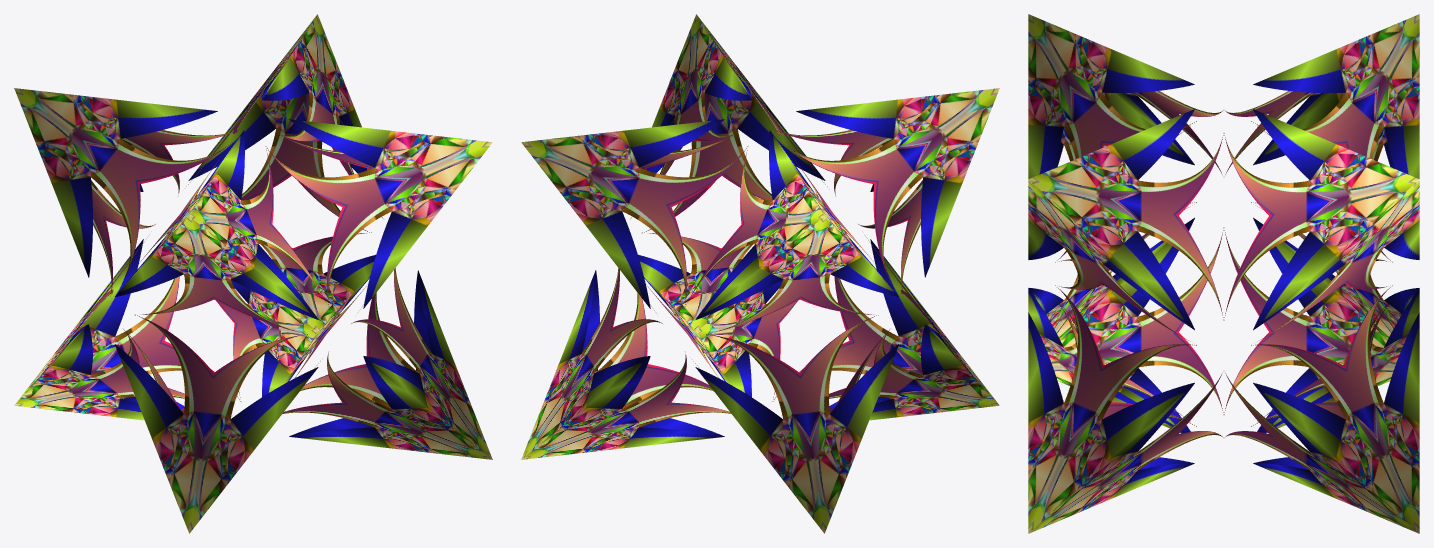
Rendered from 1StellaOctangula.gltf.
3 renders of one model, left to right at view 1: azimuth 30°, elevation 25°; view 2: azimuth 150°, elevation 25°; view 3: azimuth 270°, elevation 25°, orthographic. The views are drawn at different scales.
Visible parts, largest first — view 1: StellaOctangula9; view 2: StellaOctangula9; view 3: StellaOctangula9.
Boxes of the visible parts, <box> form: StellaOctangula9: <box>14,14,492,533</box>; StellaOctangula9: <box>521,14,999,533</box>; StellaOctangula9: <box>1028,14,1419,533</box>.
Bounding box in the file's own units: 0.7071 × 0.7071 × 0.7071.
1 material, 1 textured.
